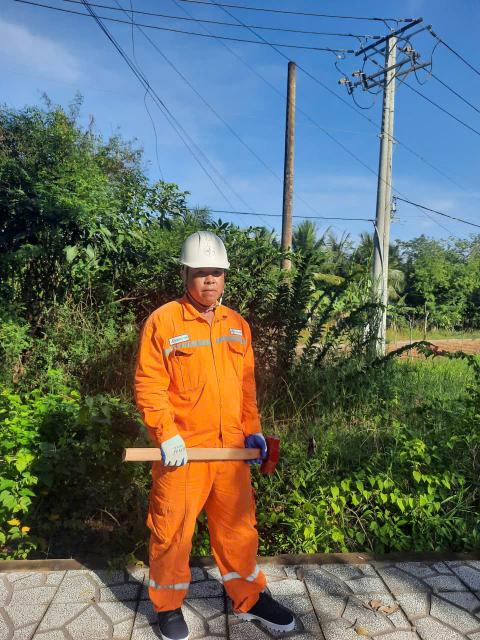gloves: (149, 428, 198, 469), (242, 421, 270, 467)
helmet: (171, 224, 253, 292)
shoes: (229, 572, 308, 640), (152, 596, 198, 640)
